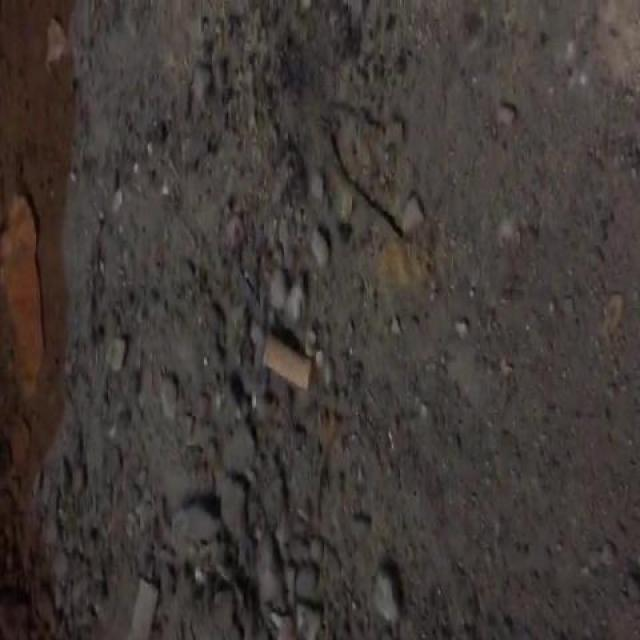non-organic waste: (257, 326, 318, 397)
